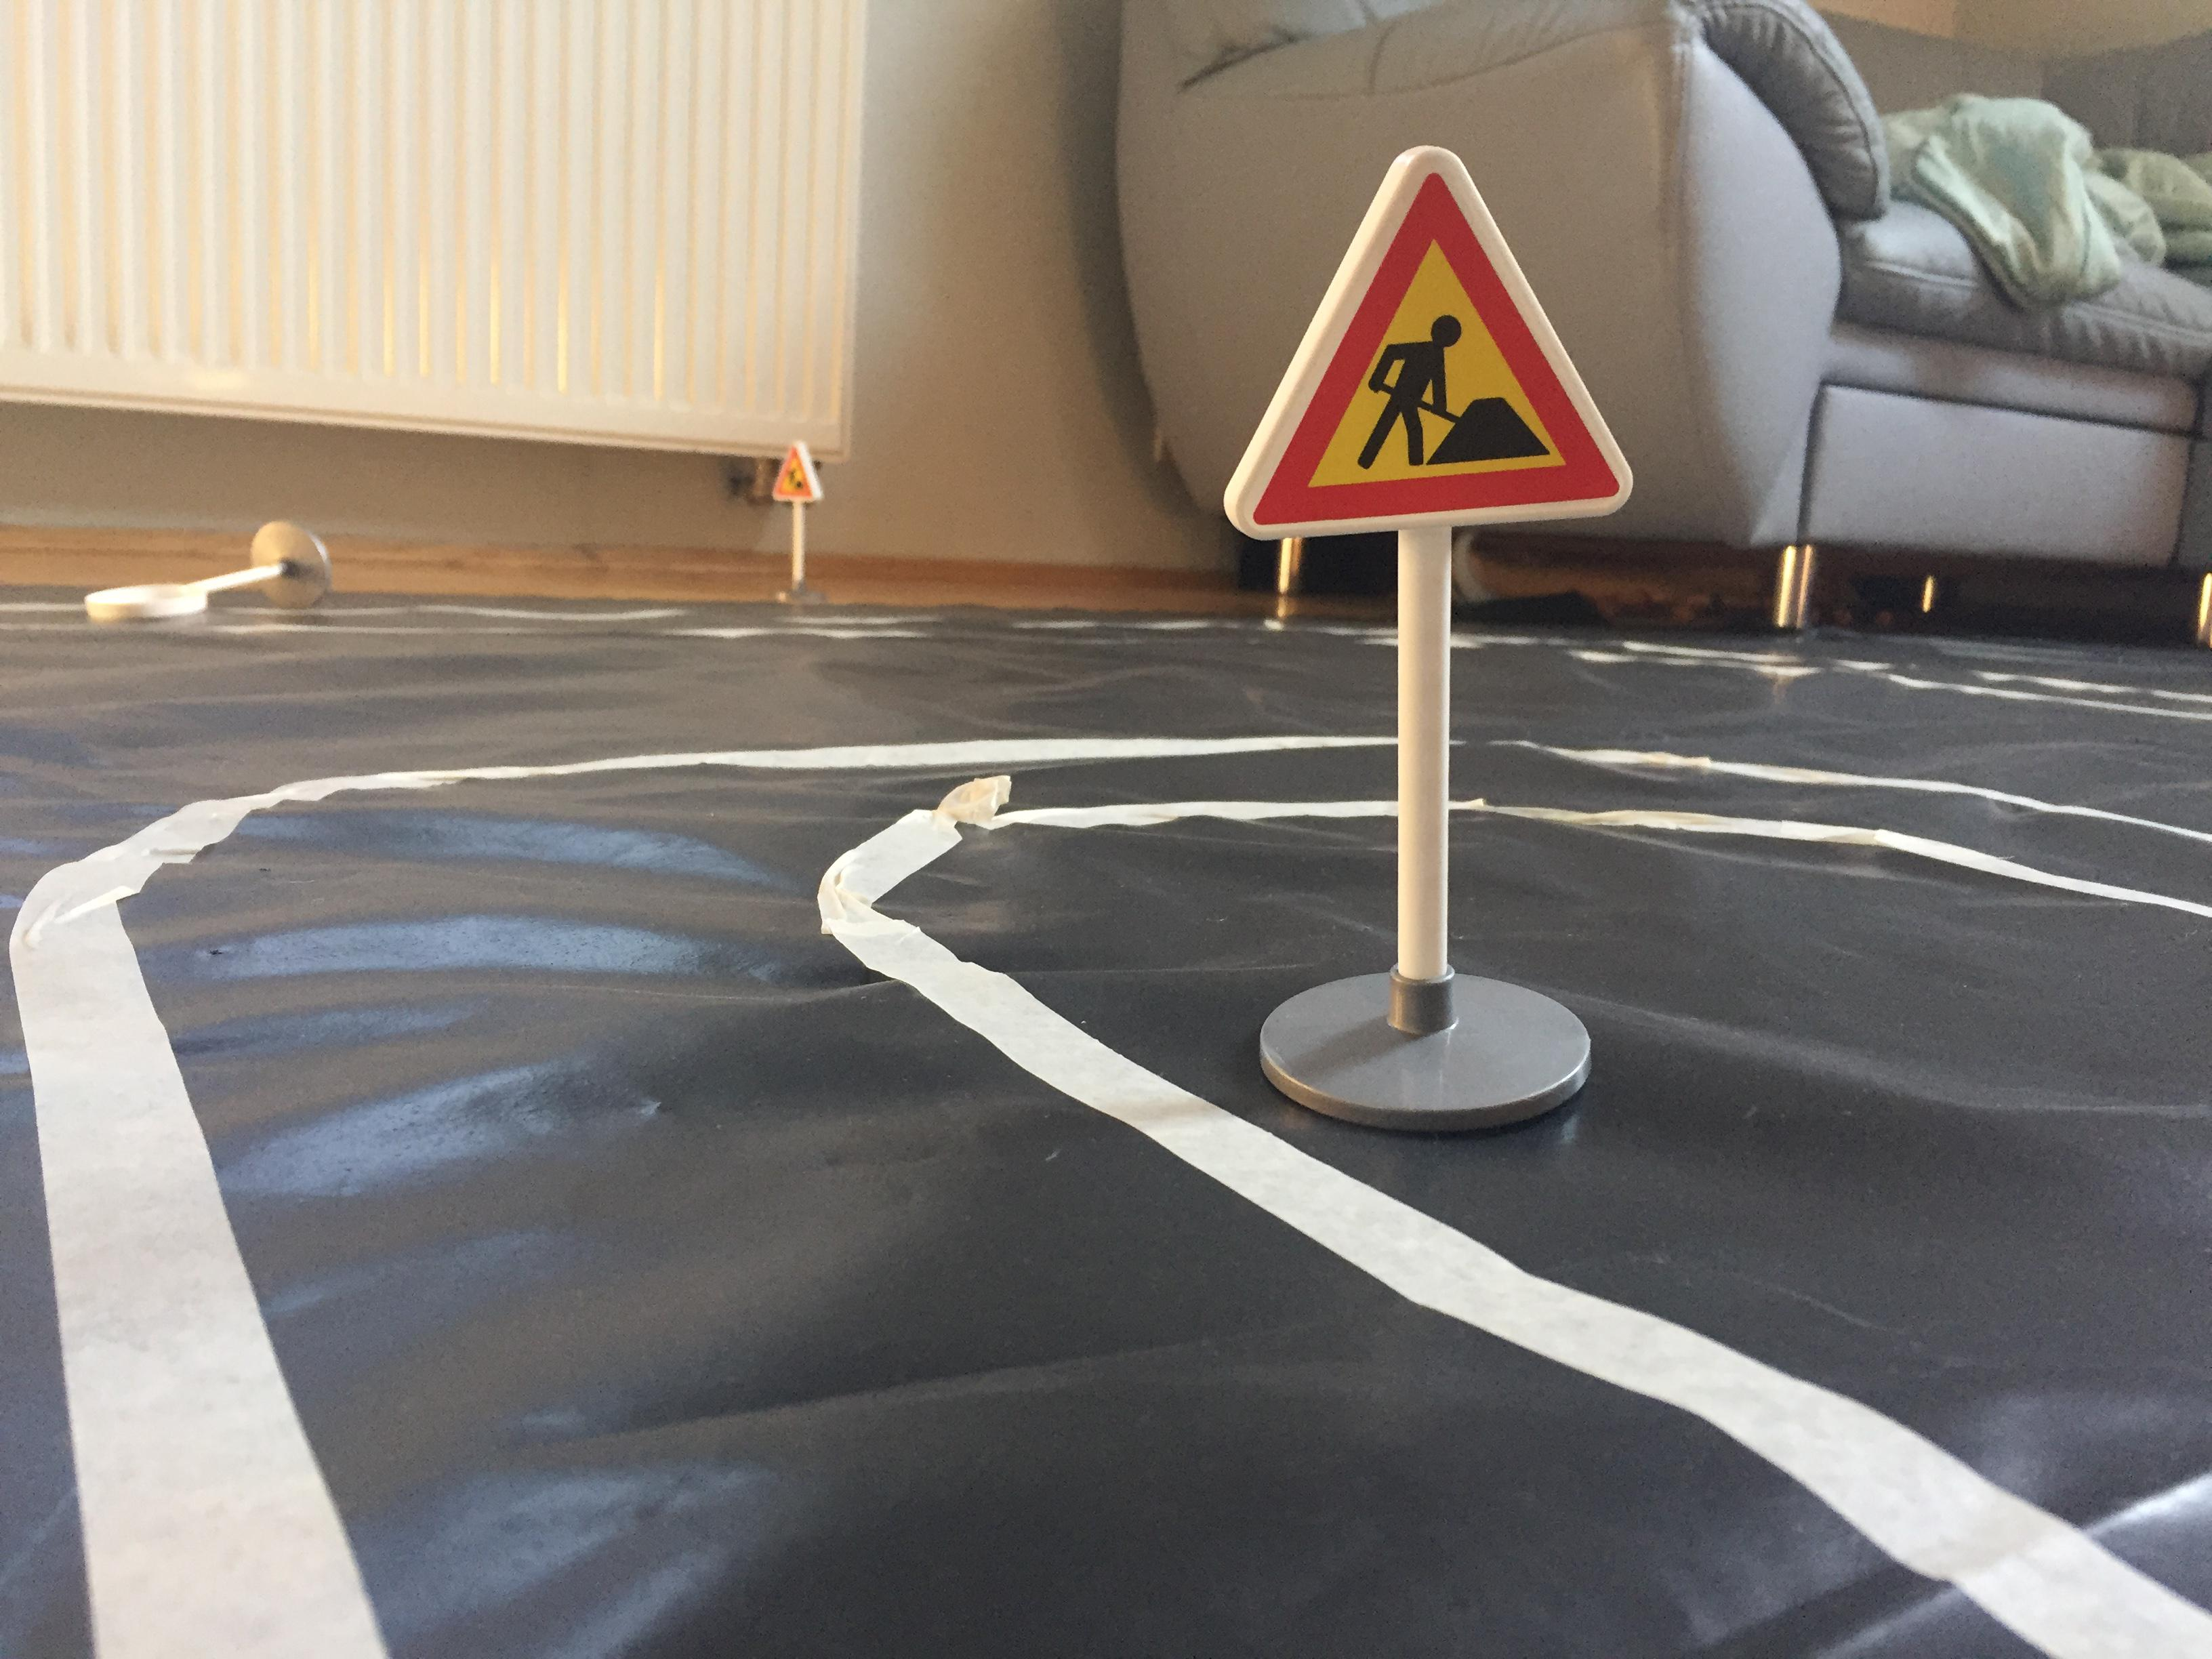work: (1211, 139, 1644, 552)
